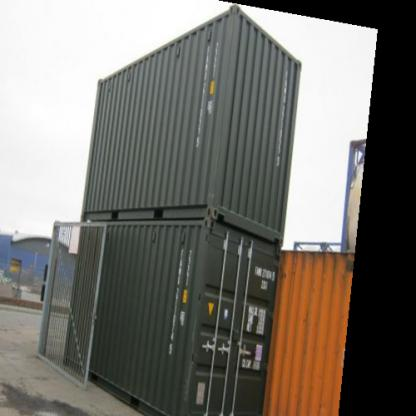Damage: (174, 312, 198, 402), (276, 251, 306, 281), (200, 176, 218, 209)
